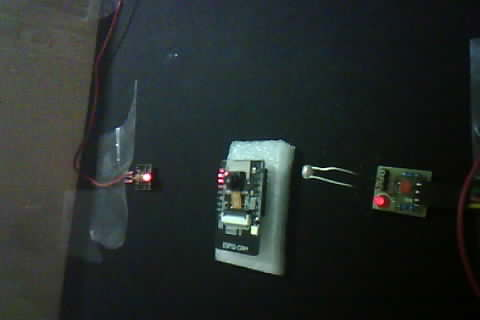esp32: (209, 139, 292, 271)
